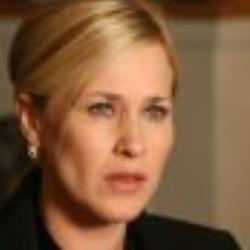face: (5, 2, 193, 229)
